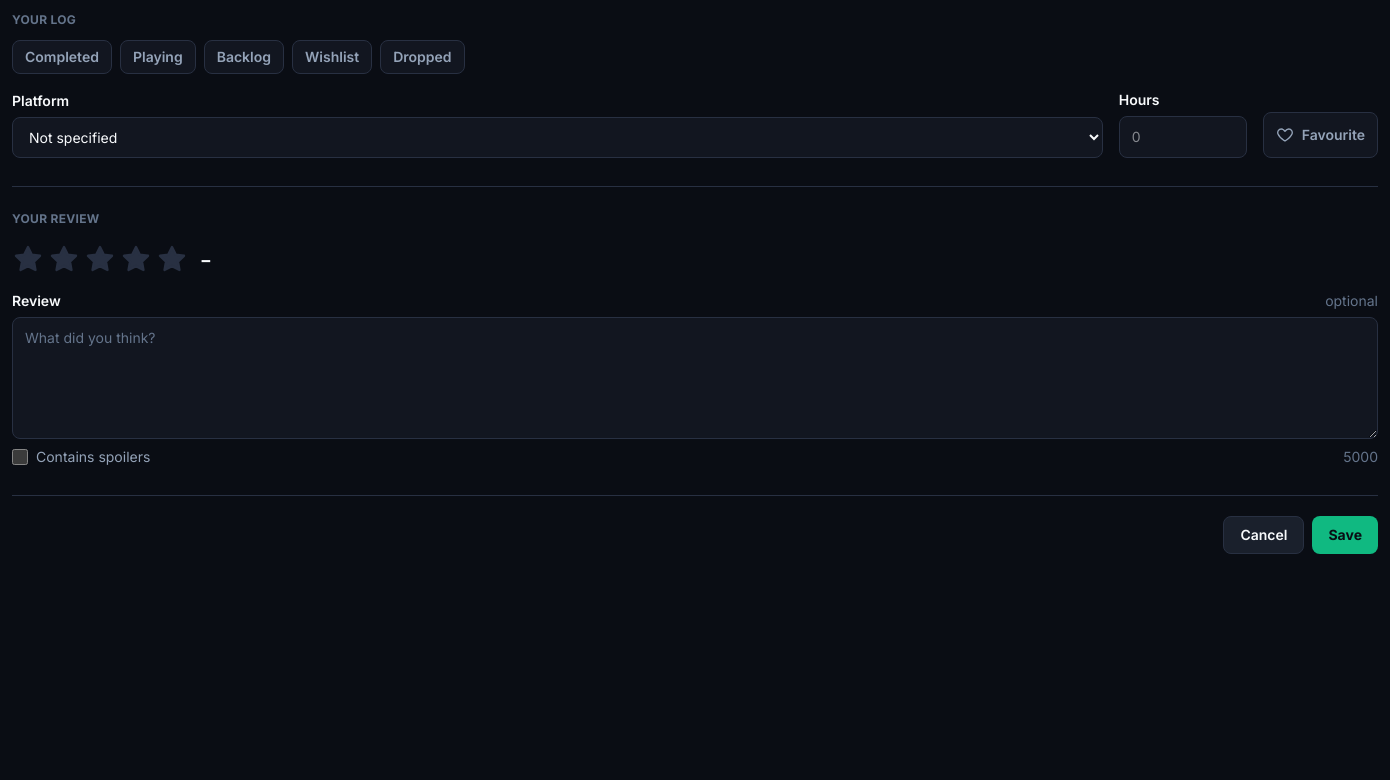
LogGameForm › needs a rating to post a written review
Click the radio button labelled "Playing" at (158, 57), box [120,40,196,74]
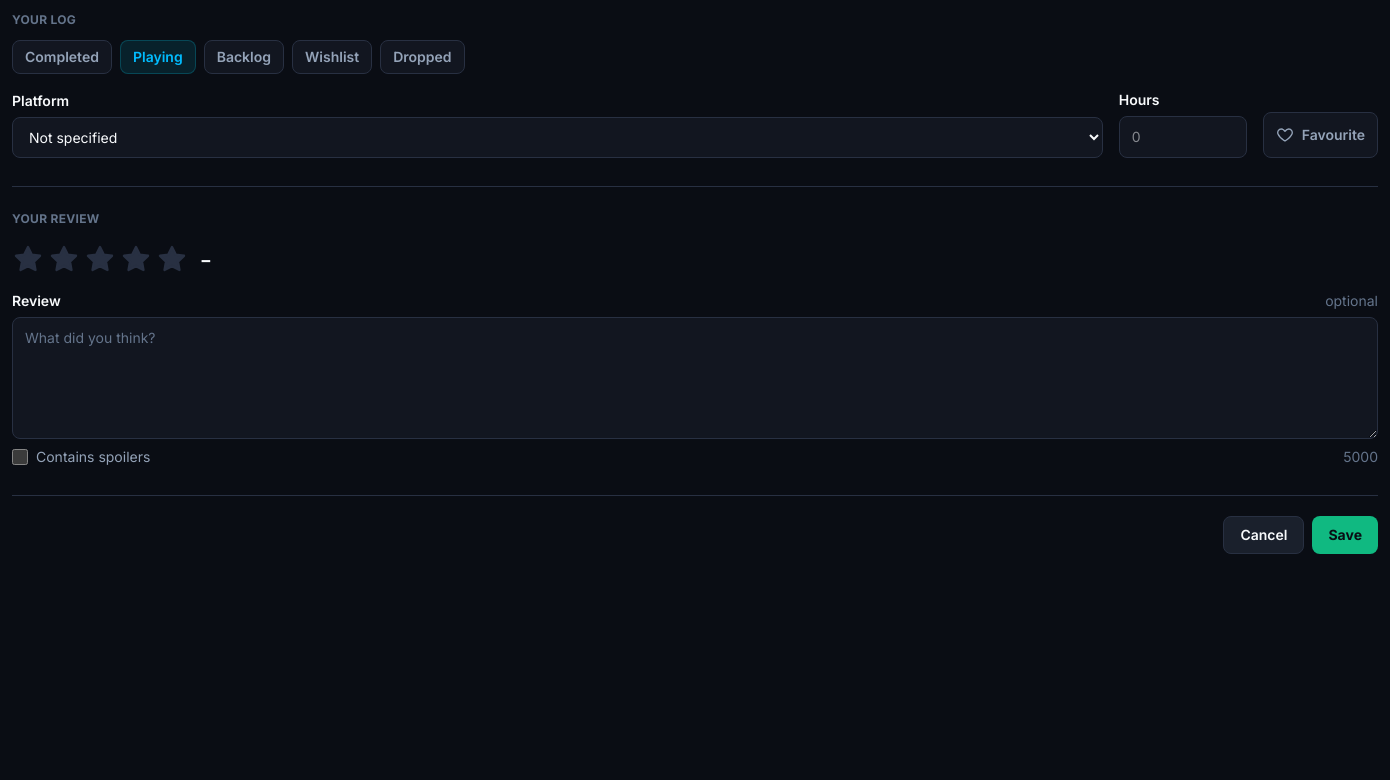
Type "No stars given" into the text box with test id "body" at (695, 378), box [12,317,1378,439]
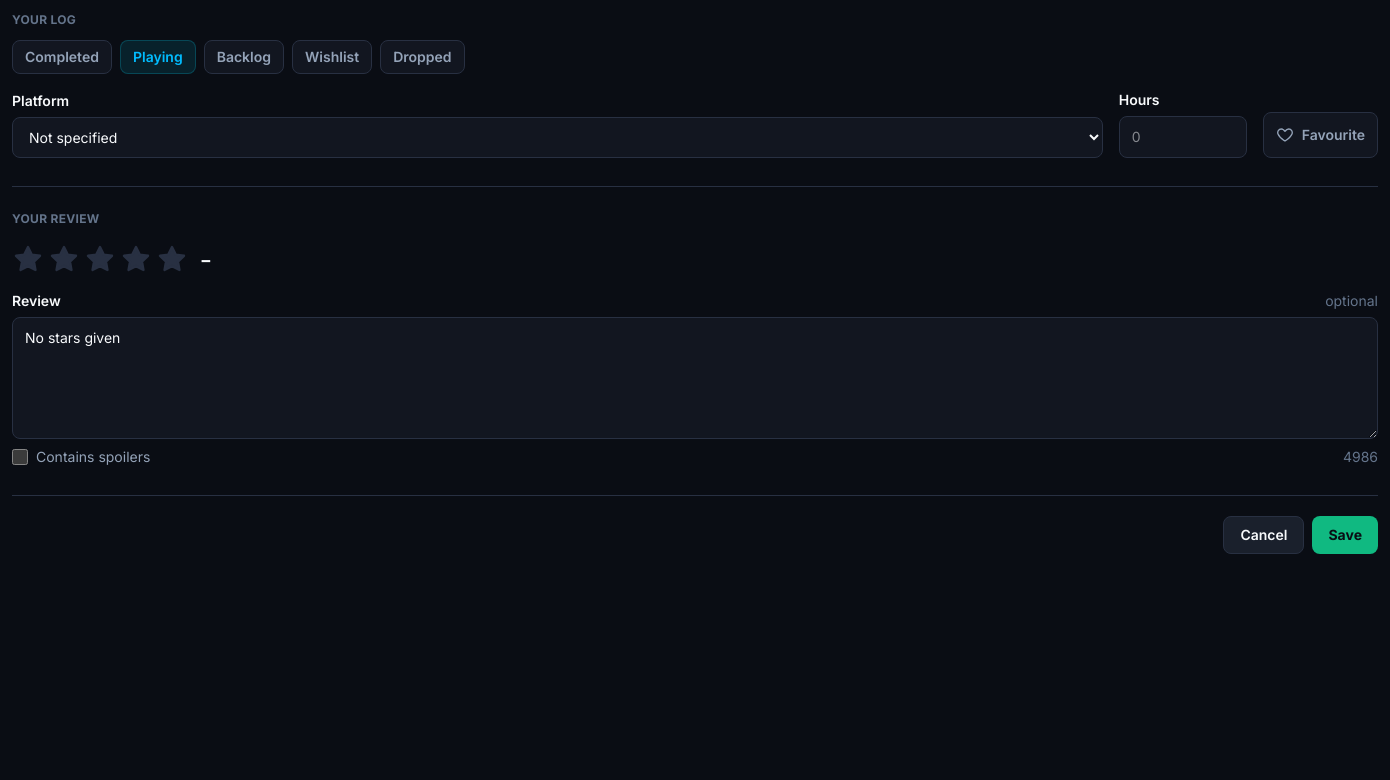
Submit the form
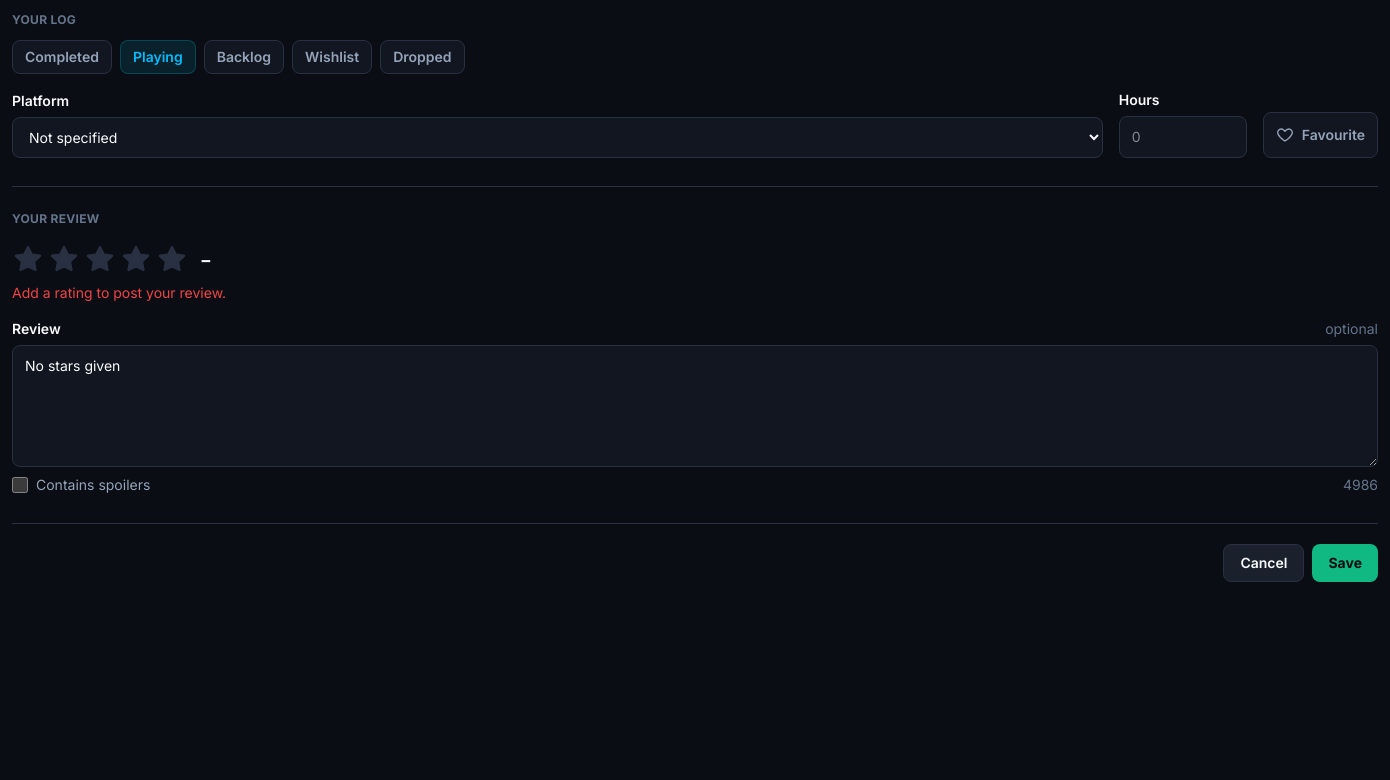
Expected: the message with test id "rating-error" reads "Add a rating to post your review.", [12,284,226,301]
